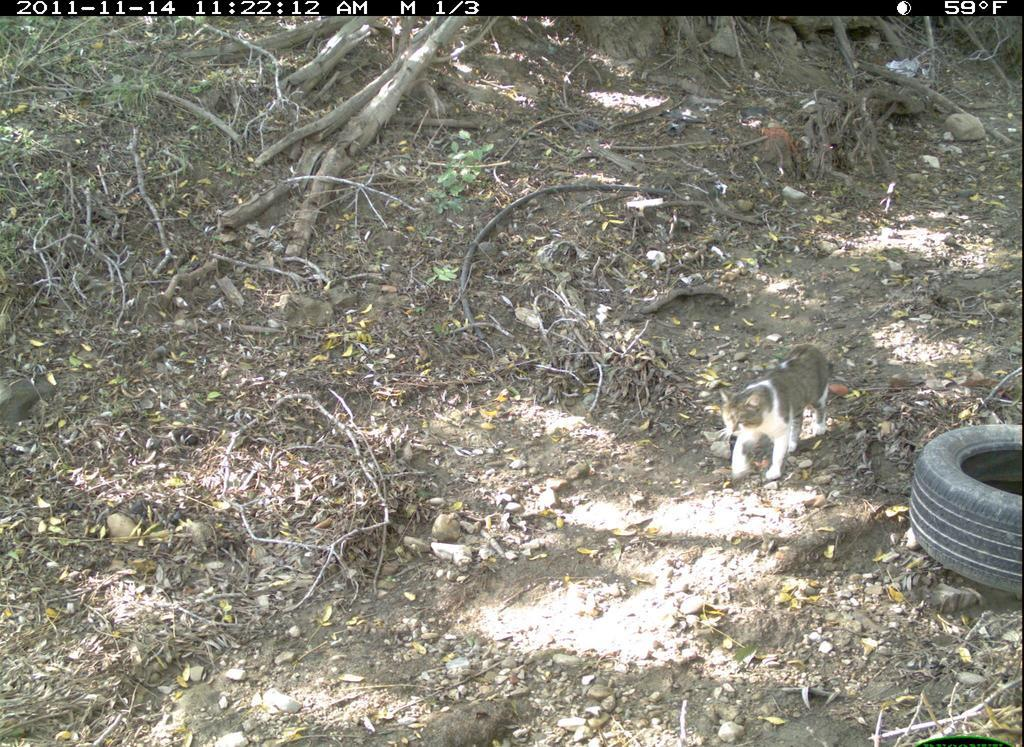cat: (712, 340, 841, 495)
